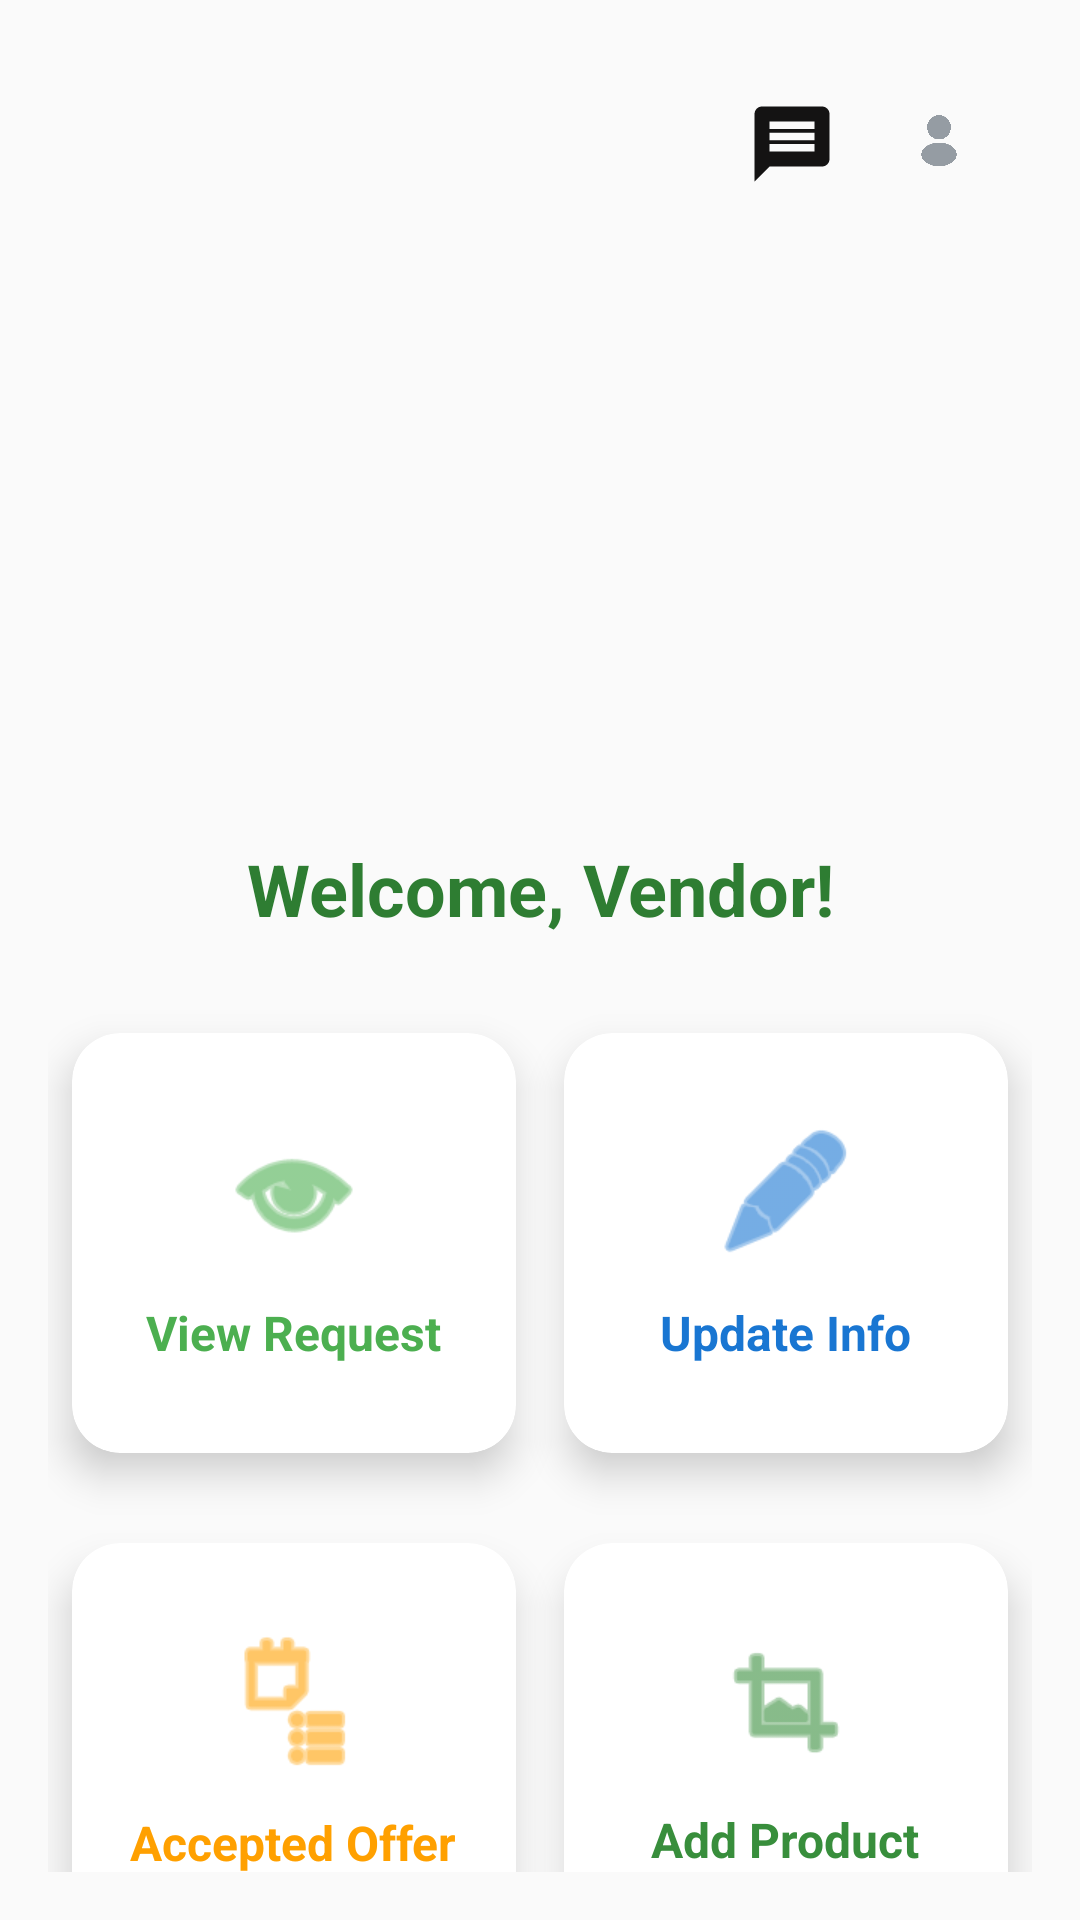

Where icons sit on this 1080*1920 app screen, as (left=x1, top=y1, right=x2, bottom=y2):
agenda: (left=244, top=1637, right=345, bottom=1765)
crop: (left=734, top=1653, right=838, bottom=1753)
edit: (left=724, top=1130, right=846, bottom=1252)
Messages: (left=754, top=106, right=830, bottom=182)
Profile: (left=921, top=115, right=957, bottom=166)
